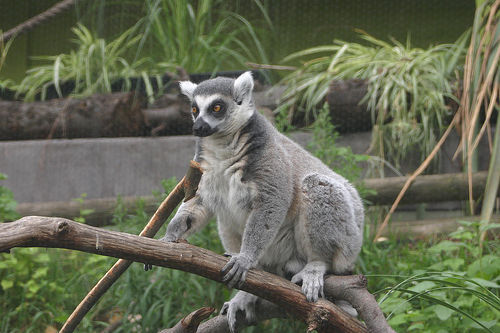cat: (140, 69, 367, 332)
